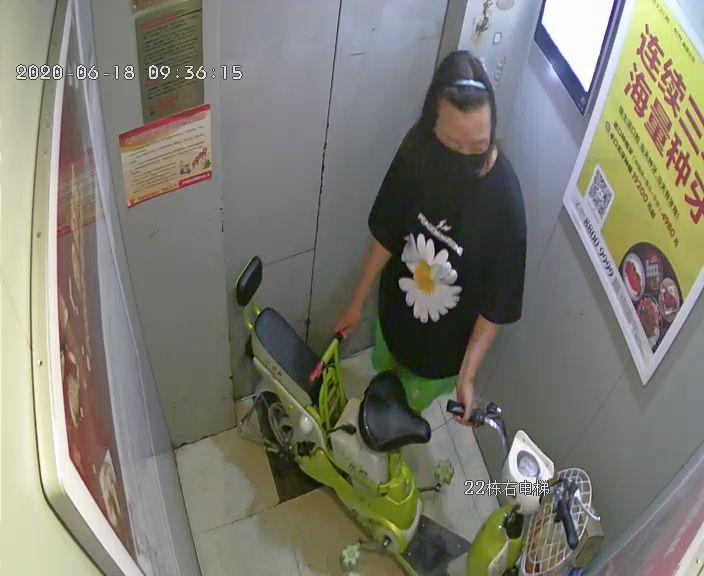Electric-bicycle: (229, 254, 599, 575)
